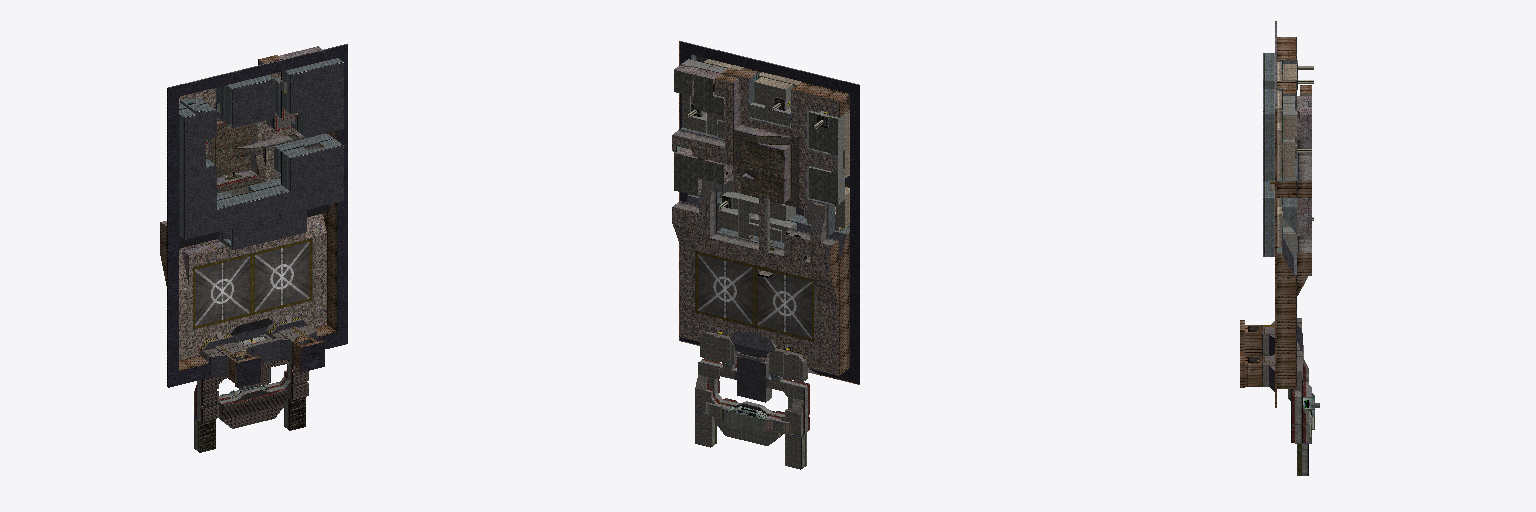
The picture shows the model from 3 angles: view 1: azimuth 30°, elevation 25°; view 2: azimuth 150°, elevation 25°; view 3: azimuth 270°, elevation 25°; orthographic projection.
Visible parts, largest first — view 1: BSP_Object.model_0; view 2: BSP_Object.model_0; view 3: BSP_Object.model_0.
Part boxes in pixels (x1,y1,x2,y2): BSP_Object.model_0: (160, 44, 347, 452); BSP_Object.model_0: (672, 41, 859, 469); BSP_Object.model_0: (1240, 21, 1319, 475).
Size of the model in its own units: 2176 by 4416 by 832.
Materials: 89 (89 with a texture image).